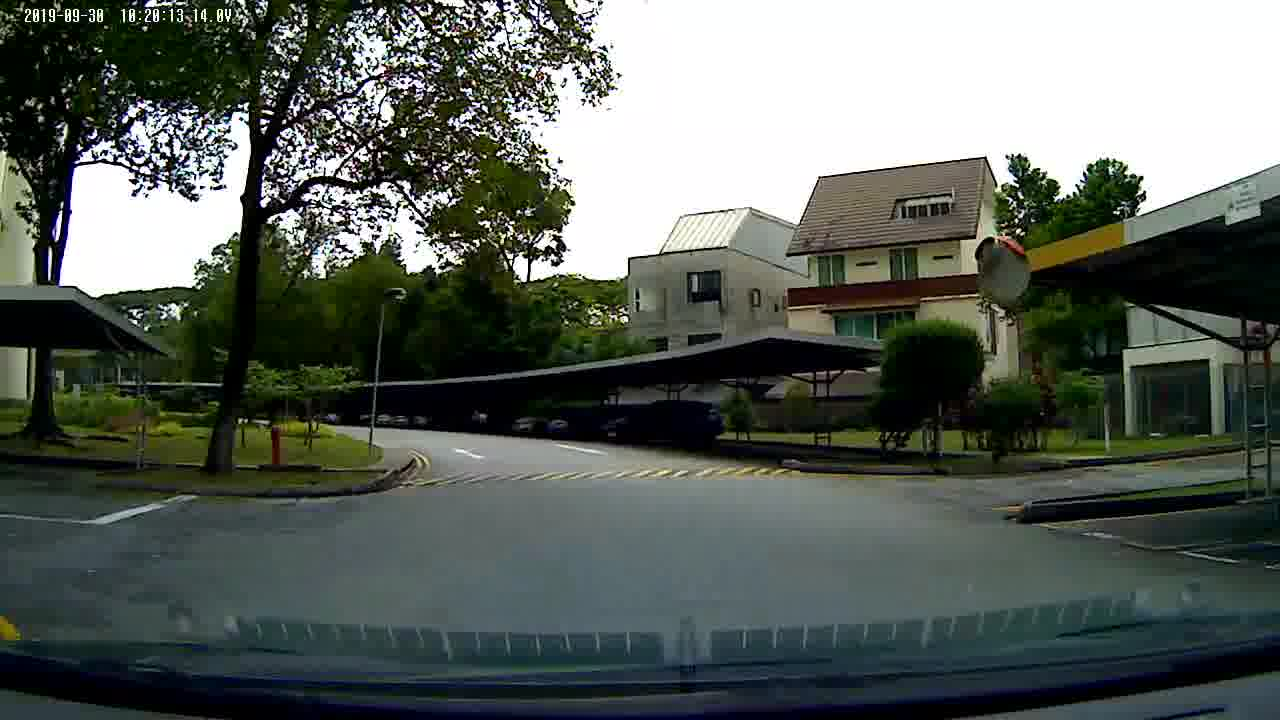car: (598, 399, 727, 446)
